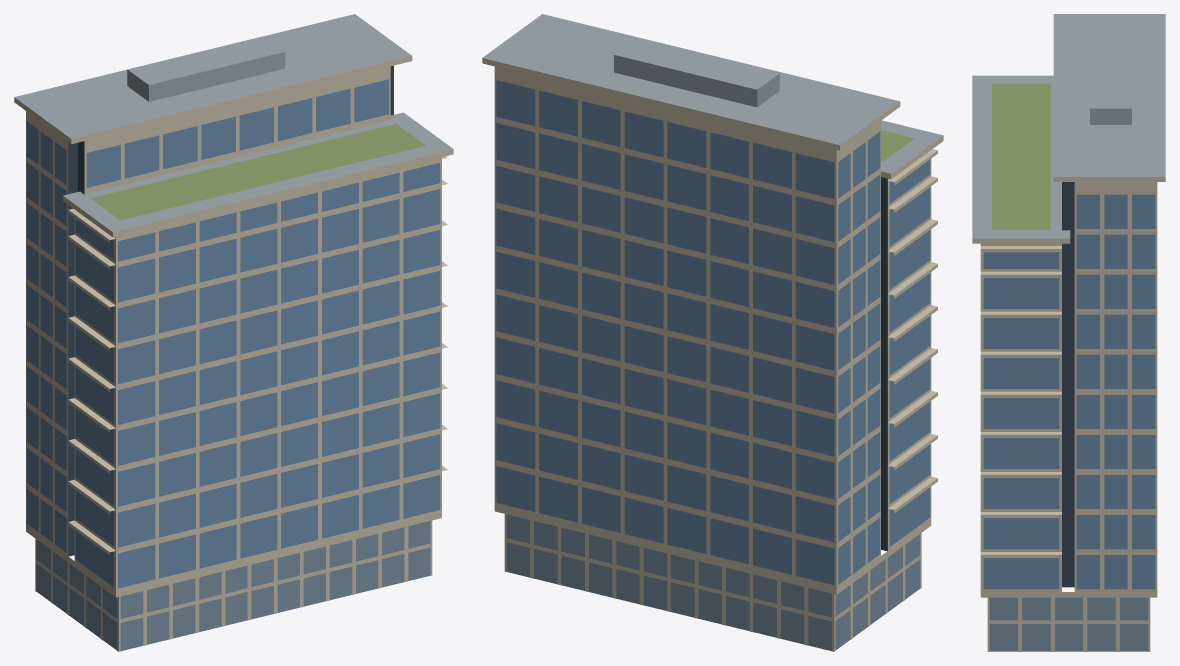
Rendered from clt-ritz-carlton.glb.
3 renders of one model, left to right at view 1: azimuth 30°, elevation 25°; view 2: azimuth 150°, elevation 25°; view 3: azimuth 270°, elevation 25°, orthographic. The views are drawn at different scales.
Parts seen in each view (by area): view 1: The Ritz-Carlton, Charlotte; view 2: The Ritz-Carlton, Charlotte; view 3: The Ritz-Carlton, Charlotte.
Boxes of the visible parts, x1,y1,x2,y2 form: The Ritz-Carlton, Charlotte: [14, 14, 453, 651]; The Ritz-Carlton, Charlotte: [482, 14, 943, 651]; The Ritz-Carlton, Charlotte: [972, 14, 1165, 651].
Size of the model in its own units: 55 by 78.4 by 27.6.
